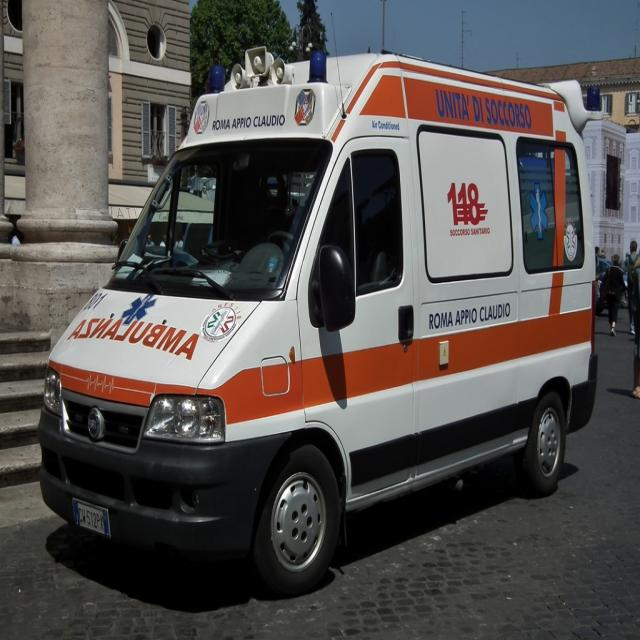Ambulance: (35, 8, 599, 586)
